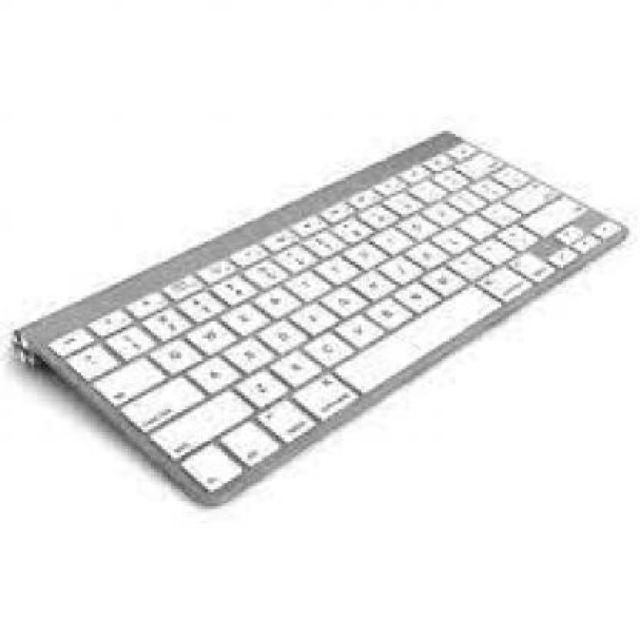keyboard: (30, 132, 629, 504)
